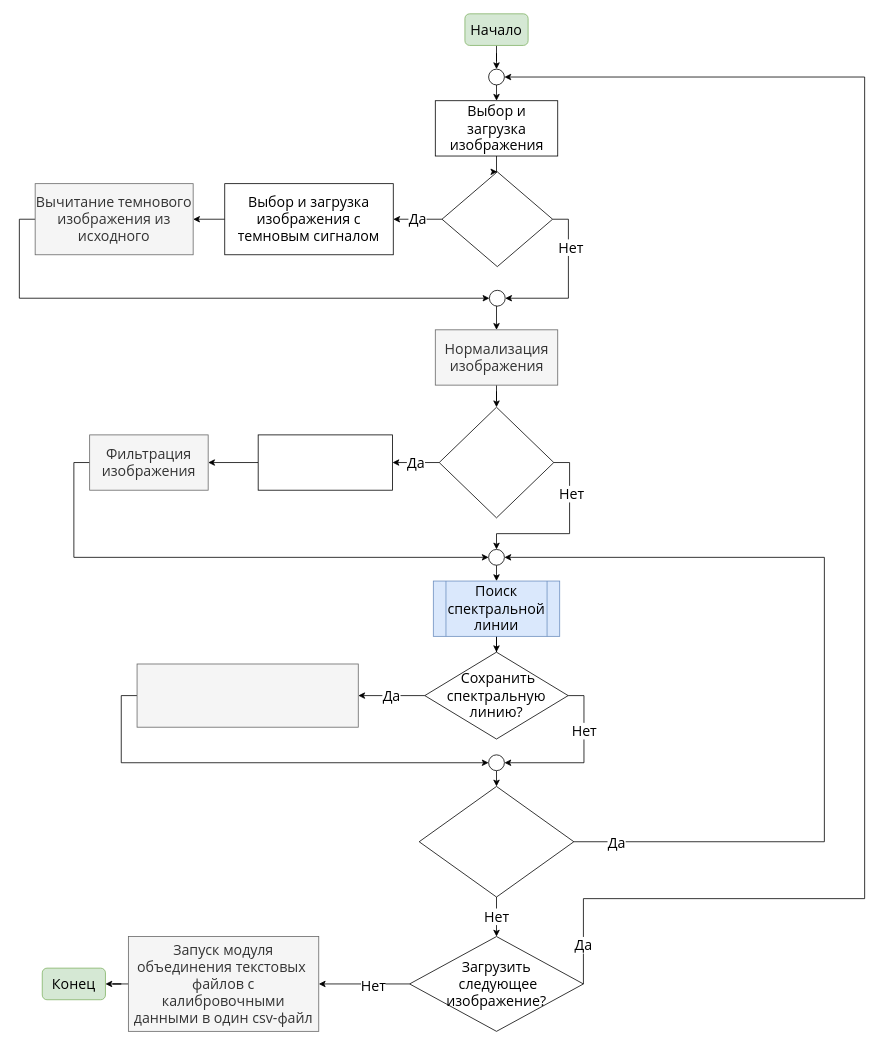
Some shapes in this 885 by 1045 pixel diagram are drawn without their labels. The centre of each missing label's shape, as x and y in pixels:
"Ввод стандартного отклонения для фильтра" belongs at (x=324, y=462).
"Вычесть темновой?" belongs at (x=497, y=219).
"Найти новую линию на изображении?" belongs at (x=496, y=841).
"Применить фильтр Гаусса?" belongs at (x=496, y=462).
"Сохранение линии в виде текстового файла с введенным пользователем именем" belongs at (x=247, y=695).
